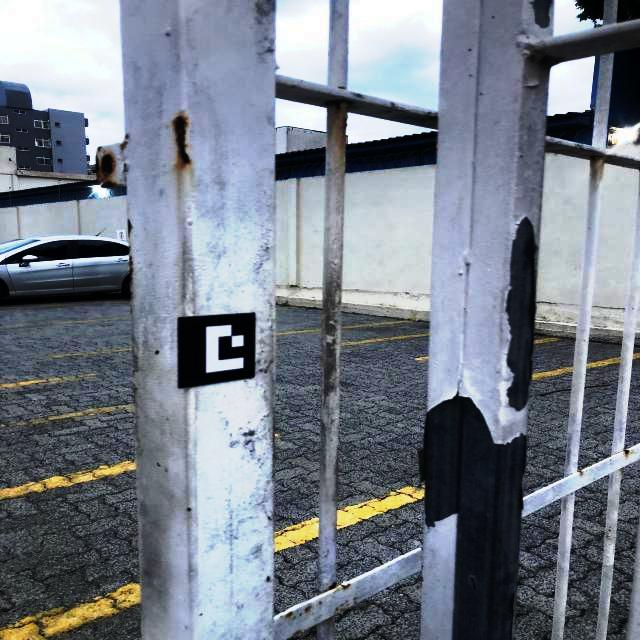Corrosion: (96, 146, 117, 188), (173, 115, 190, 164), (325, 99, 353, 108), (129, 246, 133, 285), (128, 218, 133, 238), (342, 115, 347, 132), (340, 583, 351, 590), (329, 582, 337, 591), (120, 142, 127, 150), (292, 630, 300, 636), (622, 450, 629, 455), (590, 156, 598, 160), (305, 607, 311, 612), (125, 134, 129, 139), (288, 611, 292, 616), (578, 471, 583, 475), (155, 350, 159, 354), (188, 507, 191, 511), (266, 577, 270, 580), (335, 608, 338, 611), (319, 602, 321, 604)
